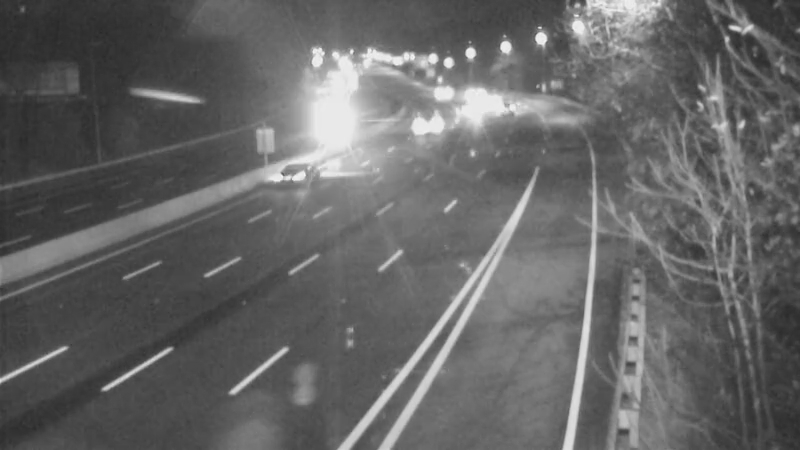vehicle: (249, 133, 329, 213), (410, 65, 460, 115), (444, 67, 494, 117), (467, 75, 517, 125), (440, 82, 490, 132), (470, 85, 520, 135), (404, 98, 454, 148), (309, 94, 359, 144)
